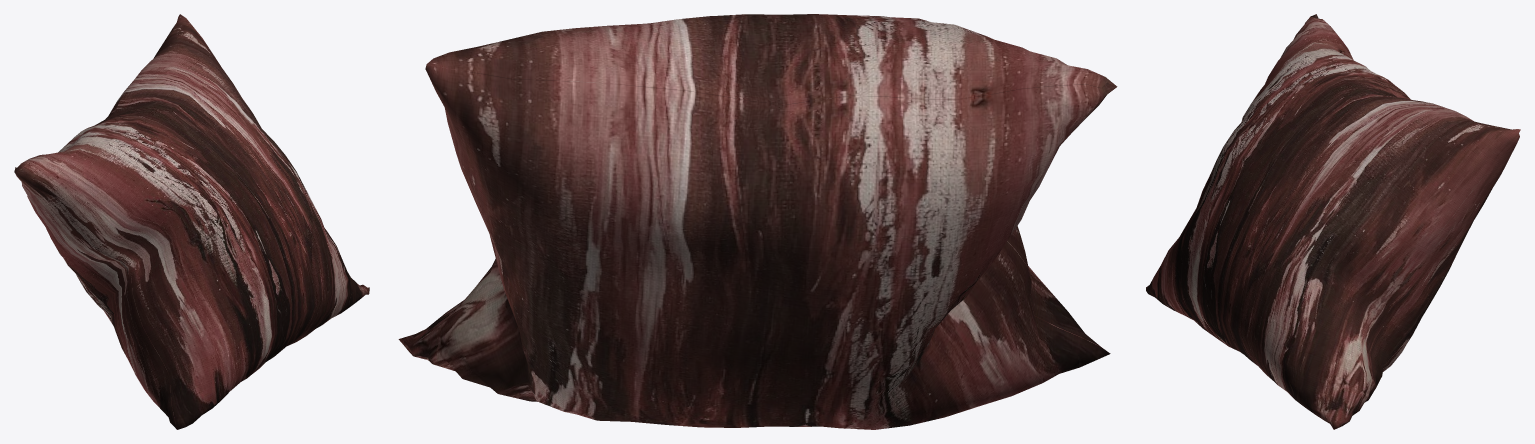
The model's file is Textile_pillow_02.glb.
3 views of the same model, side by side, from view 1: azimuth 30°, elevation 25°; view 2: azimuth 150°, elevation 25°; view 3: azimuth 270°, elevation 25° (orthographic). The views are drawn at different scales.
Parts seen in each view (by area): view 1: pillow_02; view 2: pillow_02; view 3: pillow_02.
Part boxes in pixels (bbox=[...]): pillow_02: bbox=[14, 14, 369, 429]; pillow_02: bbox=[398, 14, 1117, 429]; pillow_02: bbox=[1146, 14, 1520, 429].
Size of the model in its own units: 0.5434 by 0.3421 by 0.4601.
1 material, 1 textured.
